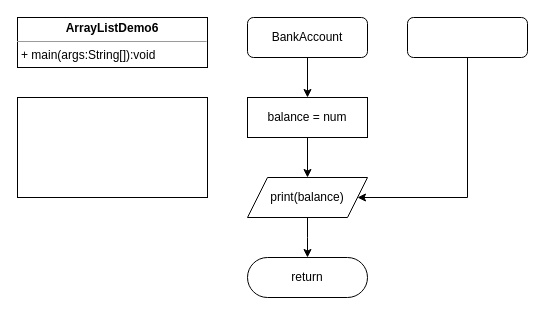
Image size: 545x315. Some labels were removed from this diagram. Here are the shapes that lost their labels. From the top down, the box of each, then its label:
(406, 16, 528, 58): getBalance
(16, 96, 208, 198): BankAccount - balance double + BankAccount(num : double) + getBalance():double
